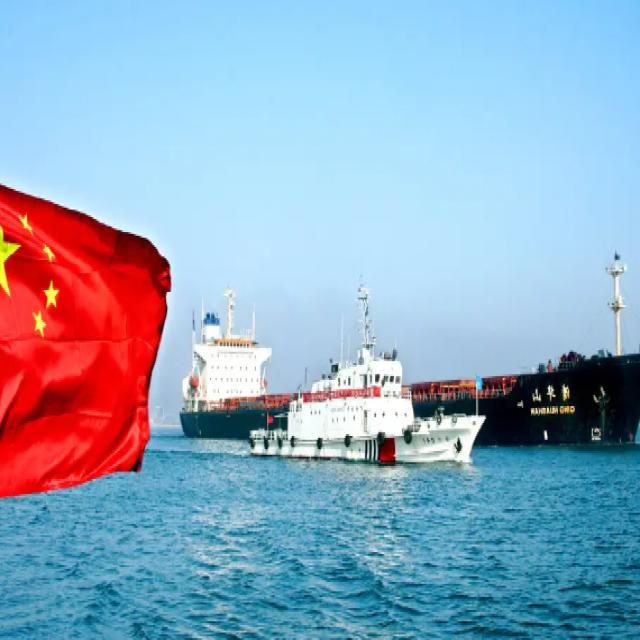cargoship: (153, 312, 640, 469)
houseboat: (246, 319, 488, 503)
